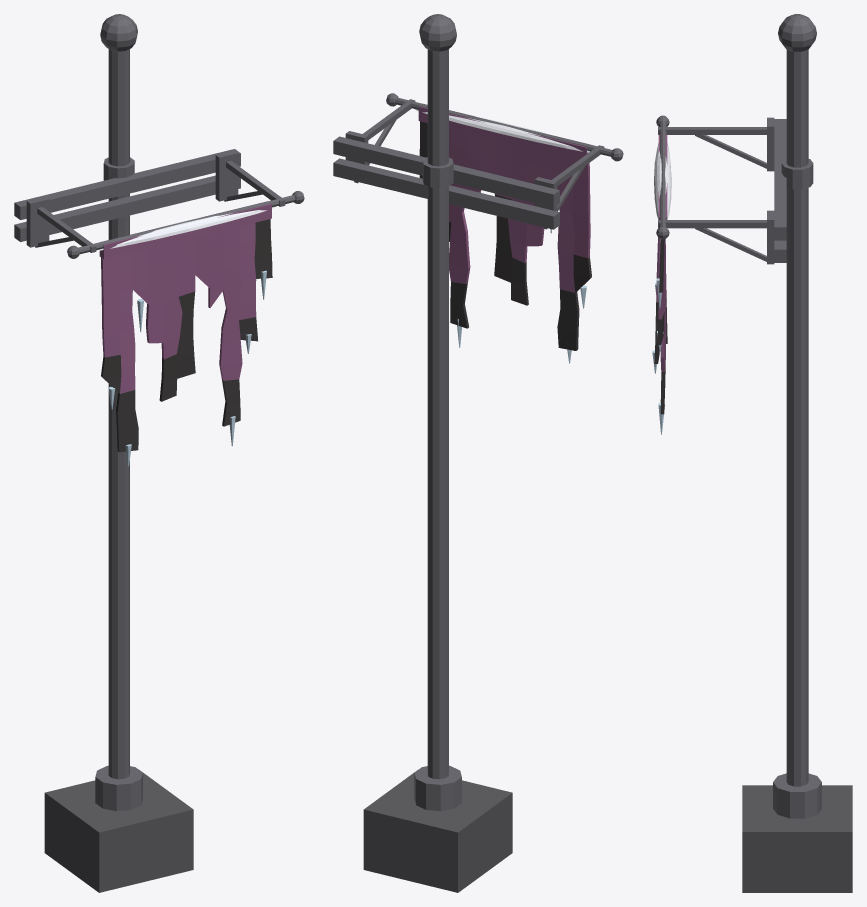
Rendered from PR_Mastro_Queimado.fbx.
3 renders of one model, left to right at view 1: azimuth 30°, elevation 25°; view 2: azimuth 150°, elevation 25°; view 3: azimuth 270°, elevation 25°, orthographic.
Visible parts, largest first — view 1: PR_Mastro_Queimado; view 2: PR_Mastro_Queimado; view 3: PR_Mastro_Queimado.
Boxes of the visible parts, bbox=[...] form: PR_Mastro_Queimado: bbox=[14, 14, 304, 892]; PR_Mastro_Queimado: bbox=[333, 14, 623, 892]; PR_Mastro_Queimado: bbox=[652, 14, 852, 892].
Size of the model in its own units: 2.25 by 7.7 by 1.64.
